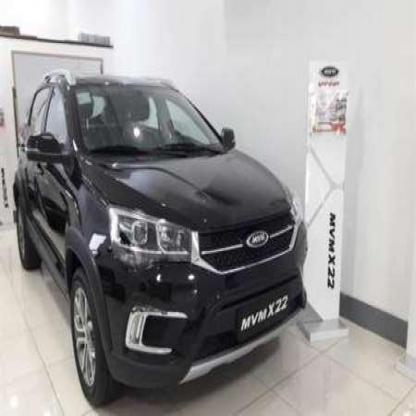Car: (8, 69, 302, 397)
